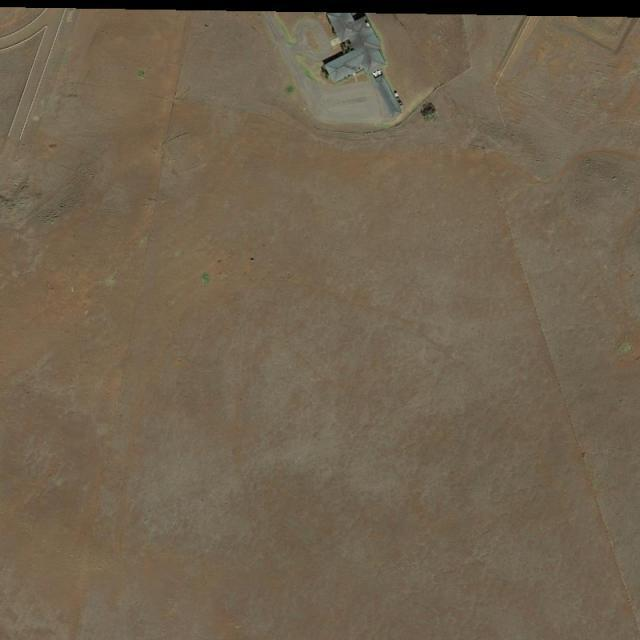vehicle: (393, 90, 401, 101), (396, 97, 404, 106)
